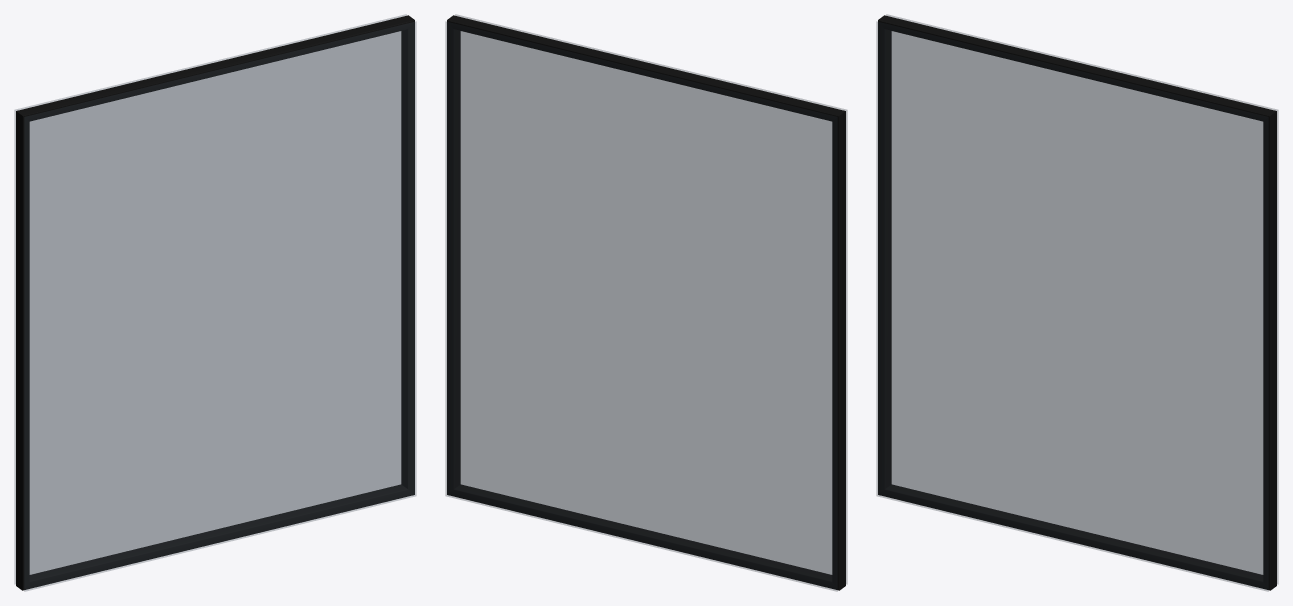
File: replacement-glazed-units.glb
The picture shows the model from 3 angles, left to right: view 1: azimuth 30°, elevation 25°; view 2: azimuth 150°, elevation 25°; view 3: azimuth 330°, elevation 25°; orthographic projection.
Visible parts, largest first — view 1: object 1, object 2, Spacer (×4); view 2: object 2, object 1, Spacer (×4); view 3: object 1, object 2, Spacer (×4).
Boxes of the visible parts, x1,y1,x2,y2 form: object 1: [24, 22, 416, 591]; object 2: [14, 14, 406, 583]; Spacer (×4): [16, 15, 414, 590]; object 2: [445, 22, 837, 591]; object 1: [455, 14, 847, 583]; Spacer (×4): [447, 15, 845, 590]; object 1: [876, 22, 1268, 591]; object 2: [886, 14, 1278, 583]; Spacer (×4): [878, 15, 1276, 590].
Bounding box in the file's own units: 640 × 740 × 28.
